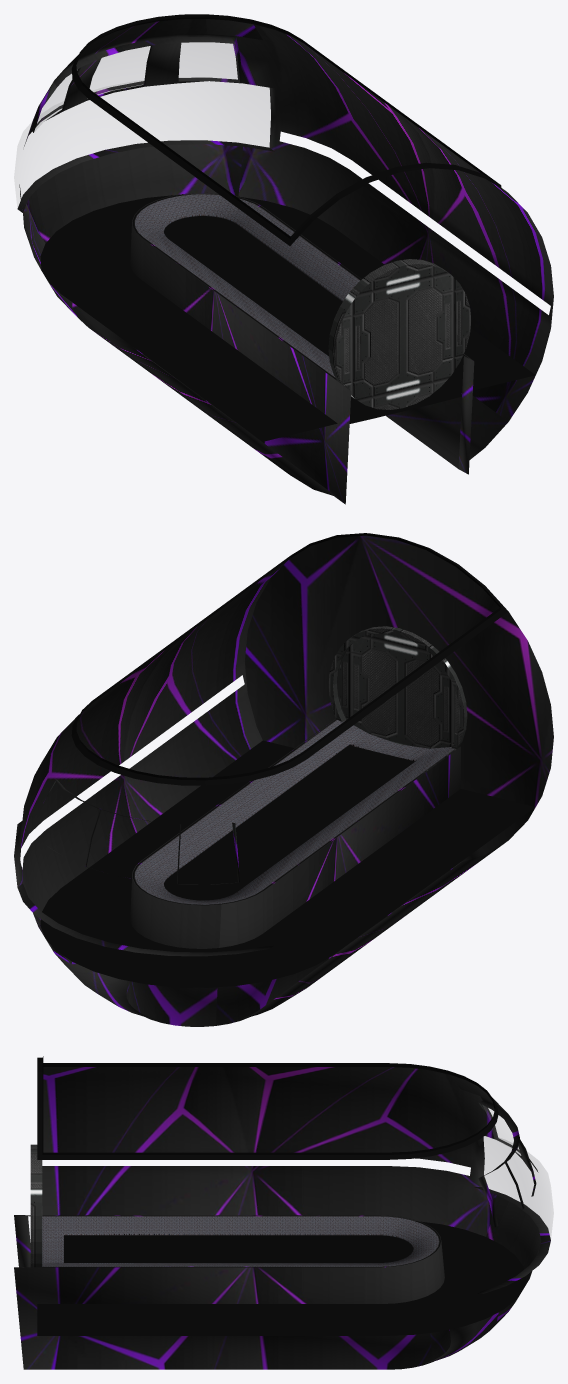
File: space-3.glb
3 views of the same model, one above another, from view 1: azimuth 30°, elevation 25°; view 2: azimuth 150°, elevation 25°; view 3: azimuth 270°, elevation 25° (orthographic). The views are drawn at different scales.
Visible parts, largest first — view 1: Sci-Fi Space Station; view 2: Sci-Fi Space Station; view 3: Sci-Fi Space Station.
Boxes of the visible parts, x1,y1,x2,y2 form: Sci-Fi Space Station: (14, 14, 553, 504); Sci-Fi Space Station: (14, 533, 553, 1026); Sci-Fi Space Station: (14, 1056, 553, 1369).
Bounding box in the file's own units: 20.08 × 20.25 × 34.86.
Materials: 7 (3 with a texture image).
